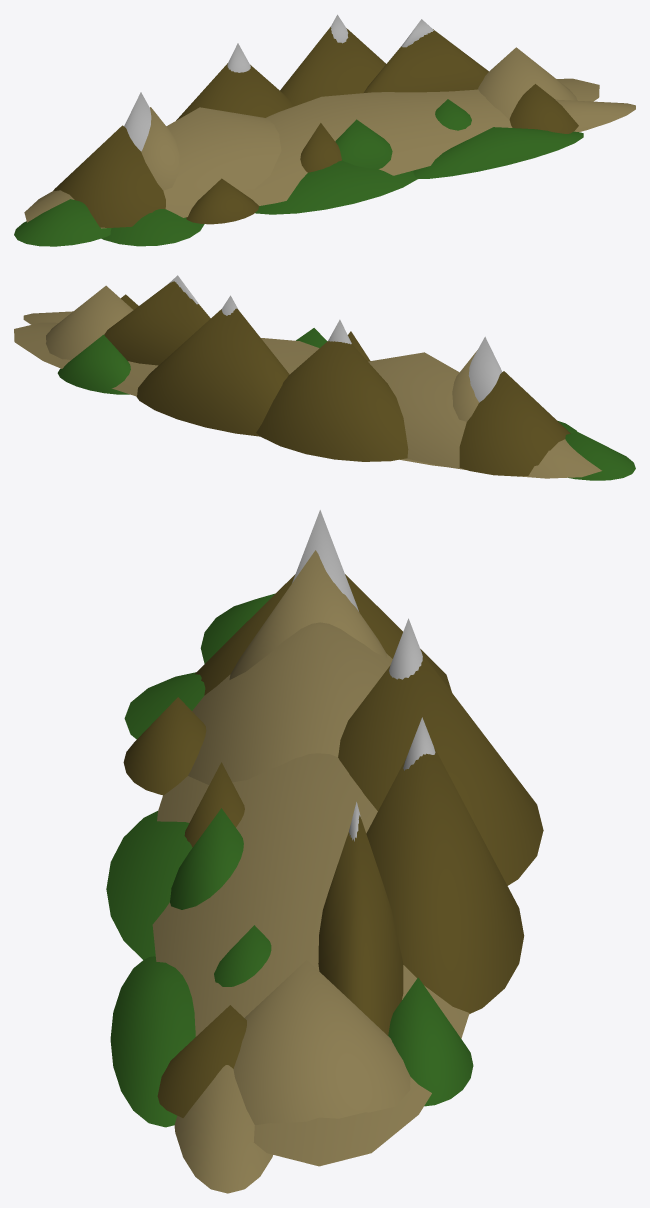
Rendered from MtnRange.fbx.
3 renders of one model, top to bottom at view 1: azimuth 30°, elevation 25°; view 2: azimuth 150°, elevation 25°; view 3: azimuth 270°, elevation 25°, orthographic. The views are drawn at different scales.
Visible parts, largest first — view 1: pCone24; view 2: pCone24; view 3: pCone24.
Boxes of the visible parts, box(x1,y1,x2,y2) form: pCone24: box(14, 14, 635, 246); pCone24: box(14, 275, 635, 480); pCone24: box(106, 510, 543, 1193).
Bounding box in the file's own units: 17.31 × 3.18 × 5.41.
